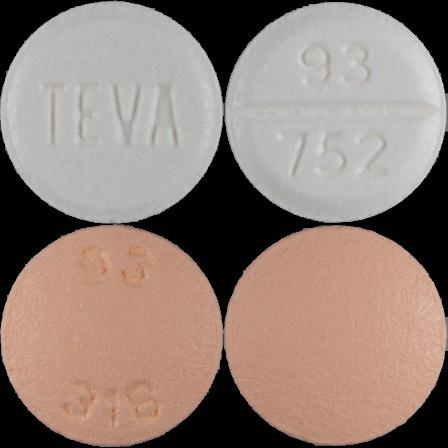0615-8027: (0, 0, 224, 224)
